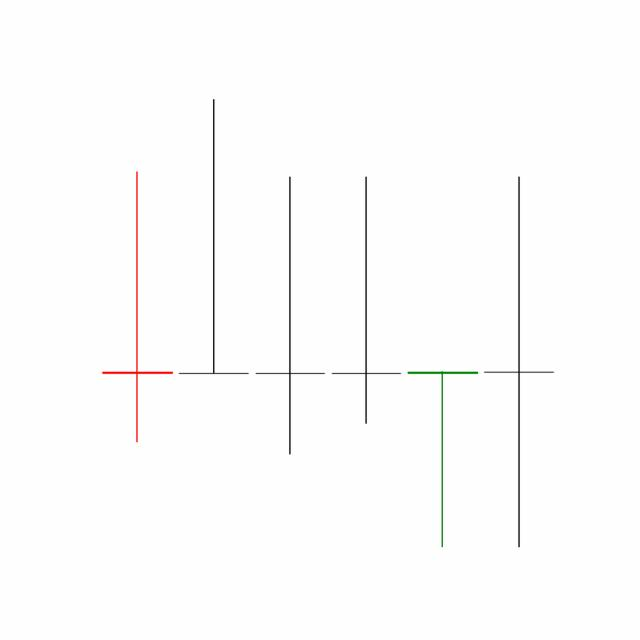Dragonfly Doji: (403, 368, 481, 549)
